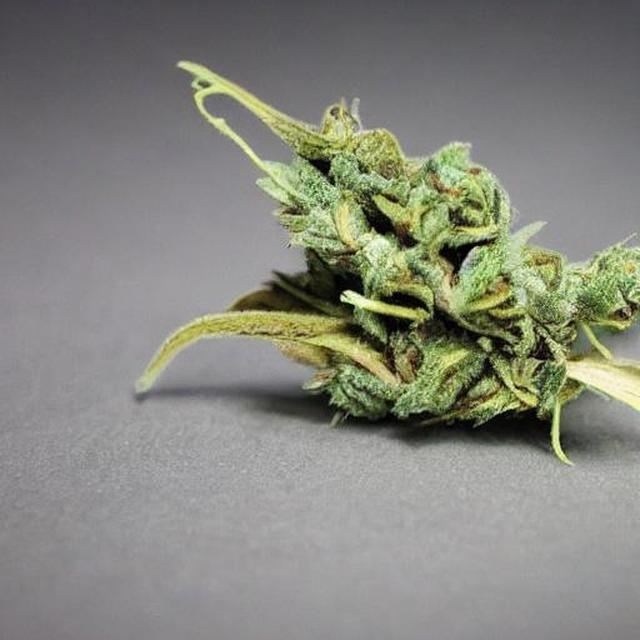Marijuana Plant: (123, 18, 640, 470)
